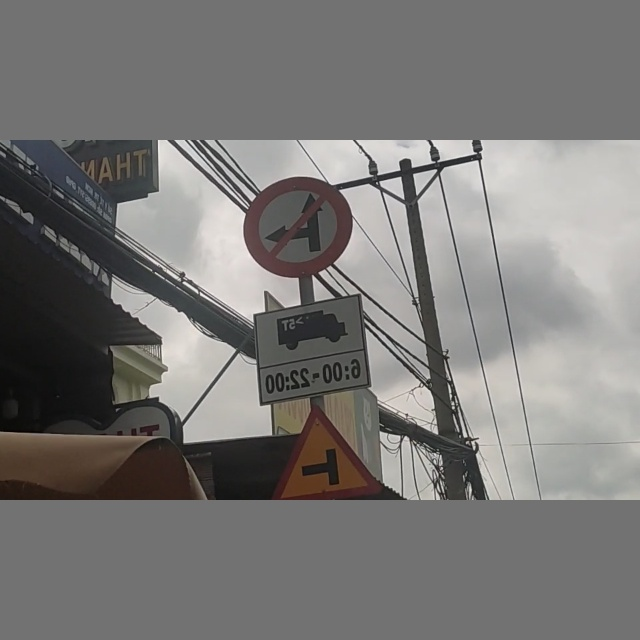P.139: (243, 177, 351, 275)
S.505a*Xe tai: (257, 295, 367, 396)
W.205b: (277, 405, 379, 500)
